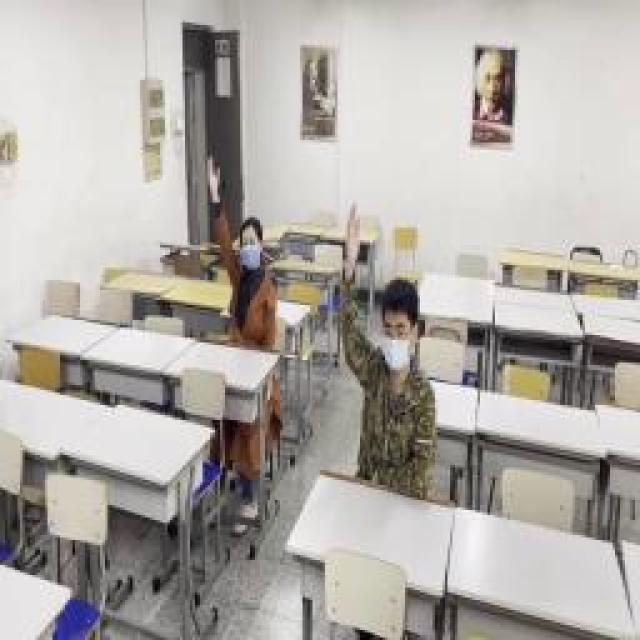study: (340, 205, 435, 473), (210, 155, 278, 340)
